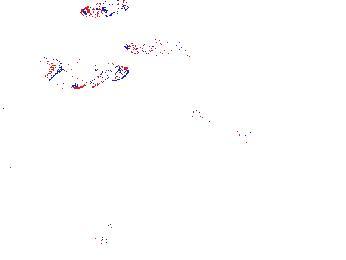X-ray fish: (94, 218, 114, 247)
glassfish: (54, 79, 146, 133), (155, 88, 237, 148)
red belly glassfish: (80, 3, 125, 19)
redtail glassfish: (46, 56, 129, 83), (124, 38, 194, 60), (238, 125, 257, 158)
